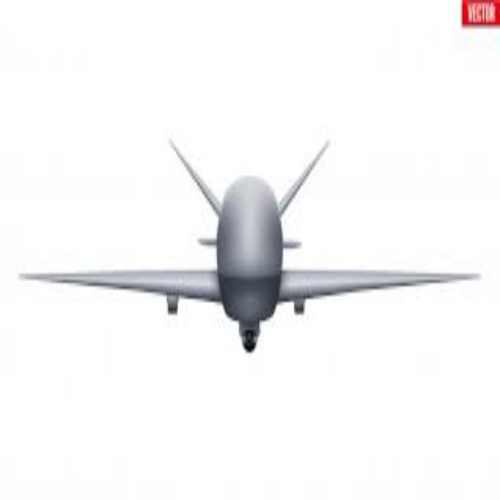uav254: (19, 135, 480, 352)
